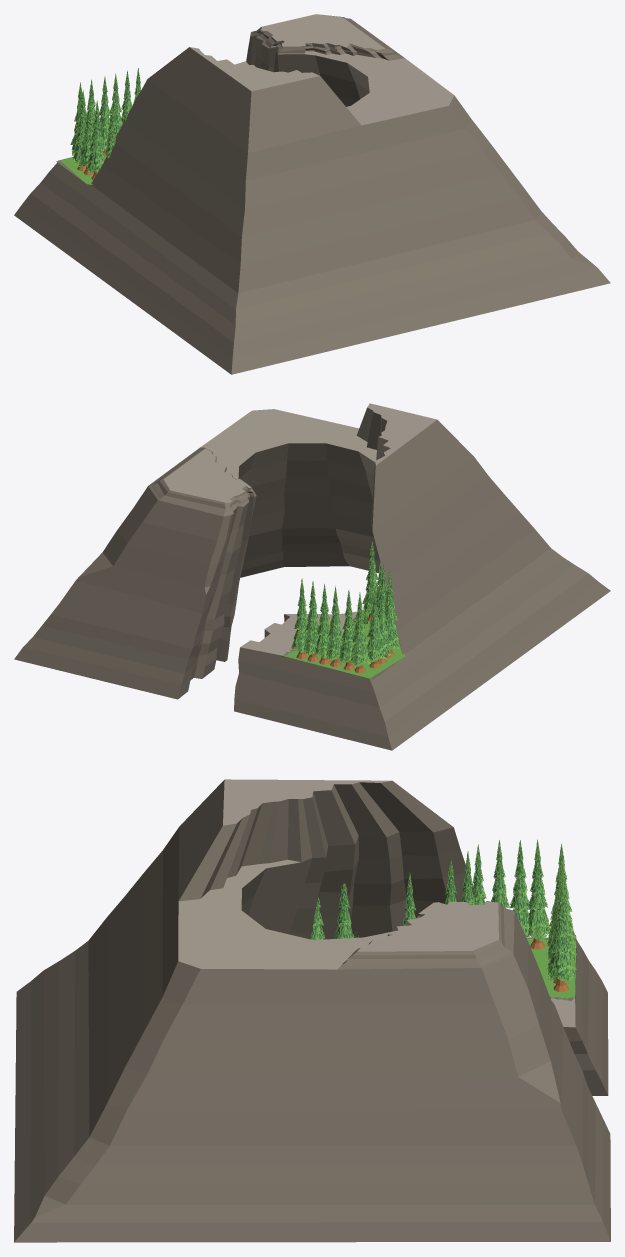
File: MOUNTAIN_STAGE1C1.fbx
3 views of the same model, one above another, from view 1: azimuth 30°, elevation 25°; view 2: azimuth 150°, elevation 25°; view 3: azimuth 270°, elevation 25° (orthographic). The views are drawn at different scales.
Parts seen in each view (by area): view 1: Plane.002; view 2: Plane.002; view 3: Plane.002.
Boxes of the visible parts, x1,y1,x2,y2 form: Plane.002: [14, 14, 610, 374]; Plane.002: [14, 403, 610, 750]; Plane.002: [14, 779, 610, 1242].
Bounding box in the file's own units: 19418 × 10086 × 19549.
